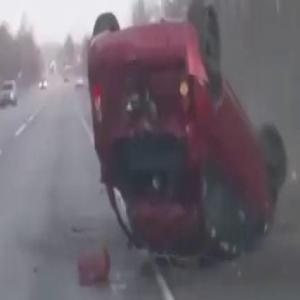severe: (81, 0, 293, 281)
